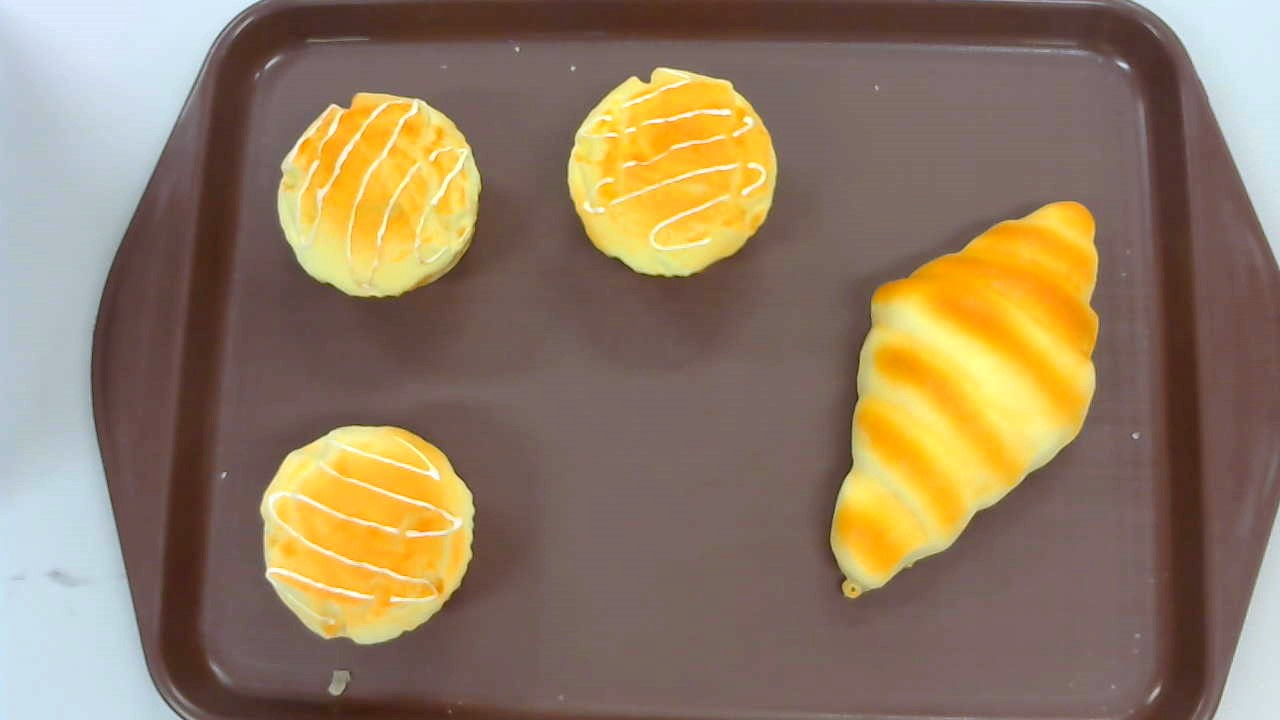croissant: (829, 200, 1099, 599)
cupcake: (260, 425, 475, 647), (568, 66, 776, 278), (276, 92, 481, 297)
